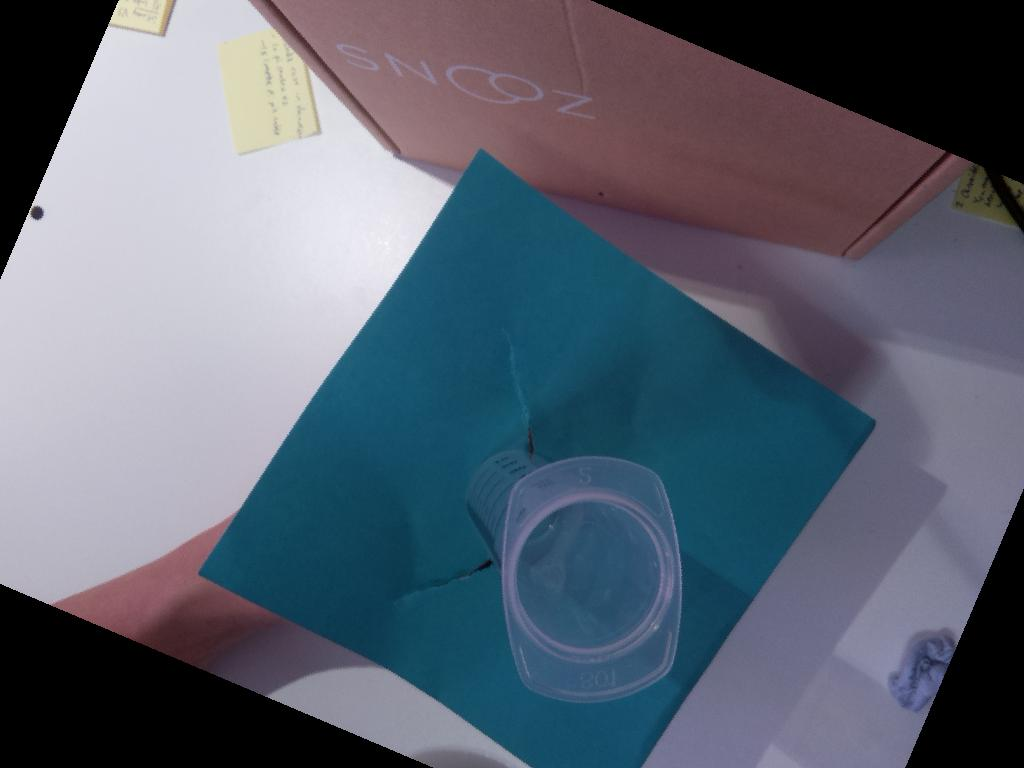clean: (500, 452, 685, 705)
